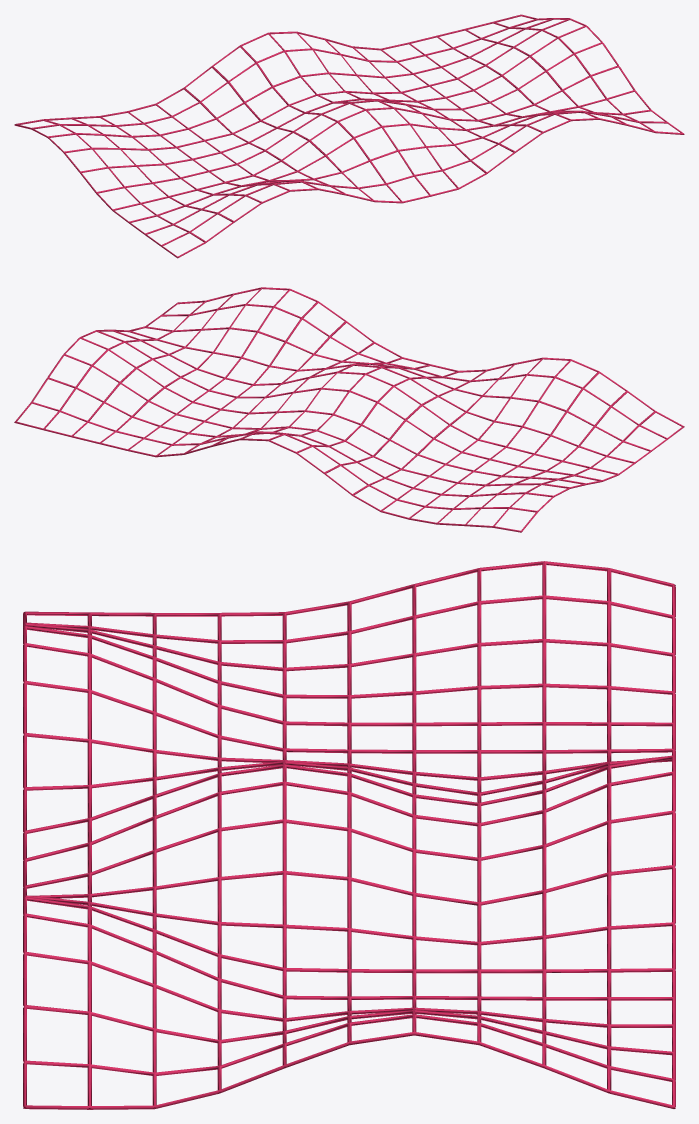
File: deform_strips6_5.gltf
3 renders of one model, top to bottom at view 1: azimuth 30°, elevation 25°; view 2: azimuth 150°, elevation 25°; view 3: azimuth 270°, elevation 25°, orthographic. The views are drawn at different scales.
Visible parts, largest first — view 1: Plane; view 2: Plane; view 3: Plane.
Boxes of the visible parts, bbox=[...] form: Plane: bbox=[14, 14, 684, 258]; Plane: bbox=[14, 287, 684, 532]; Plane: bbox=[23, 561, 675, 1109].
Size of the model in its own units: 12.04 by 1.04 by 6.71.
